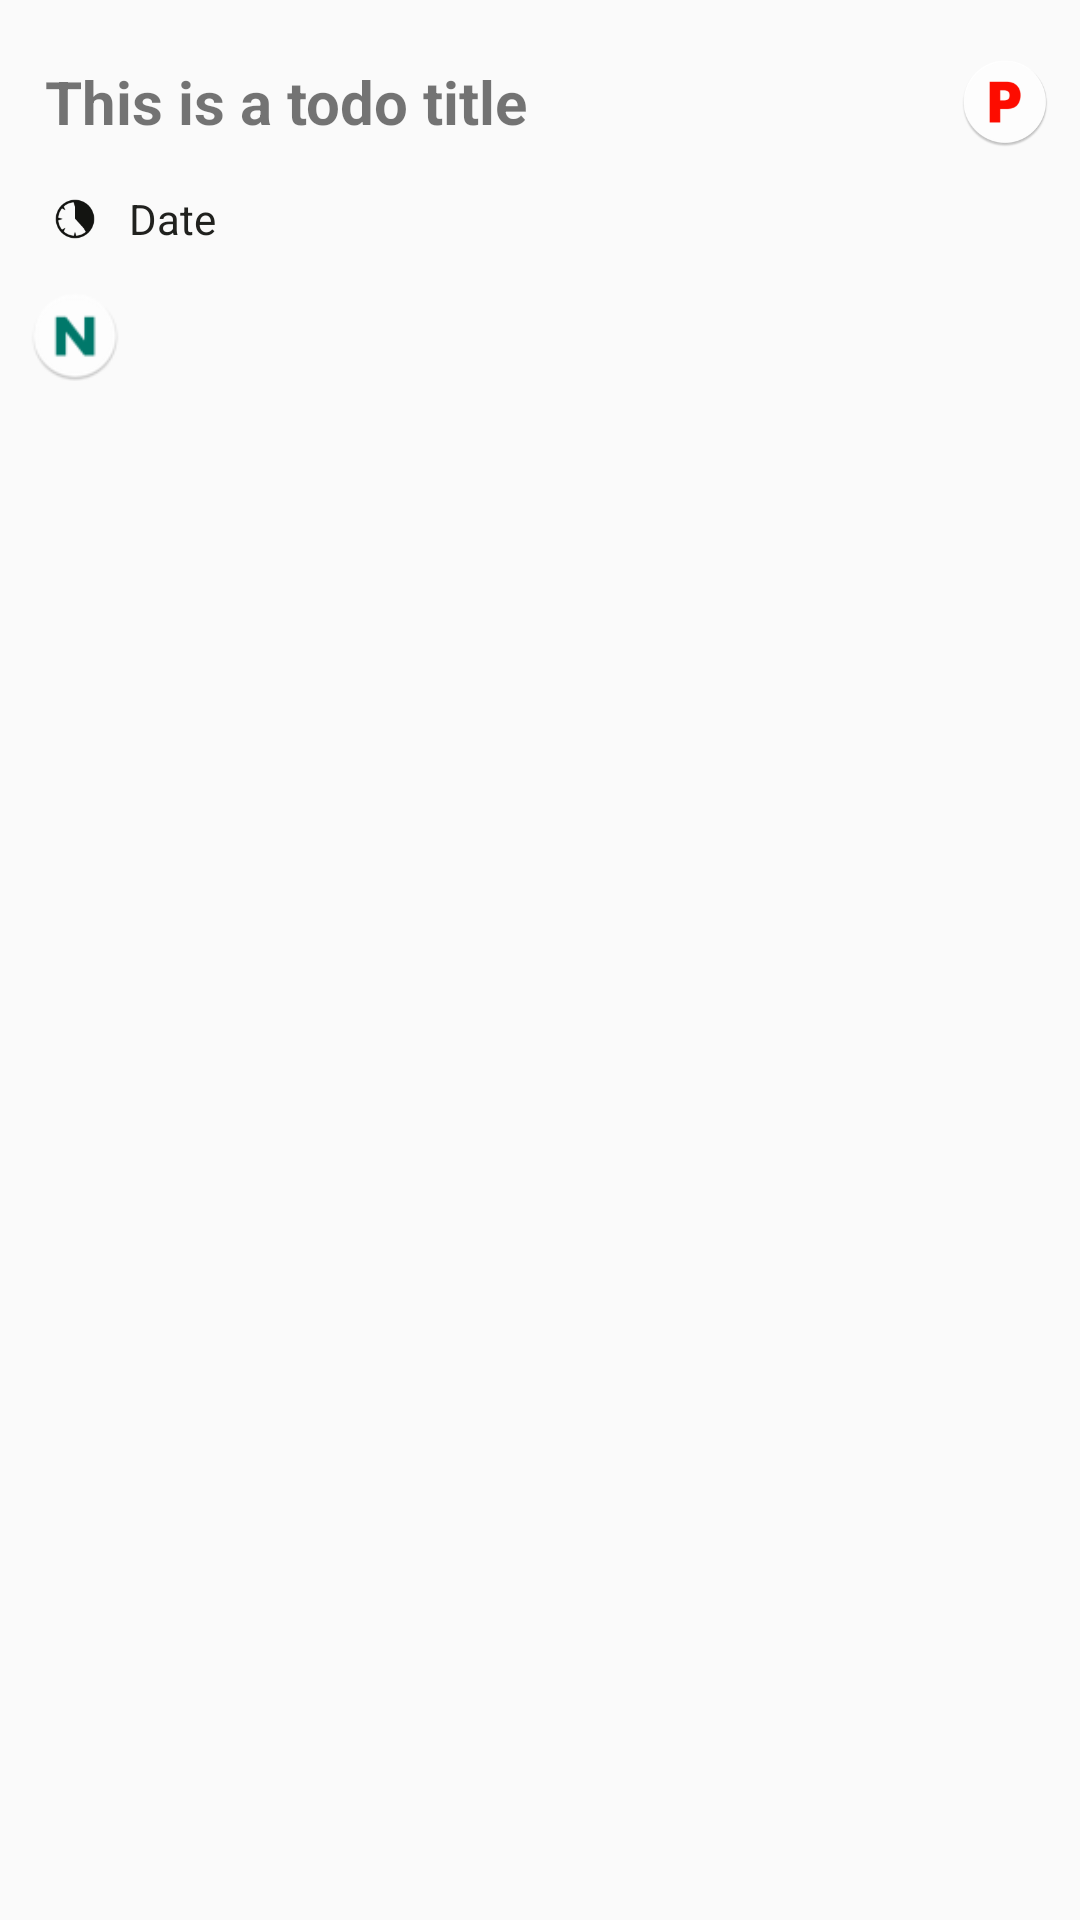

Icon click points for this 1080 × 1920 phone screenshot, format [x,y]:
pending: [1006,113]
